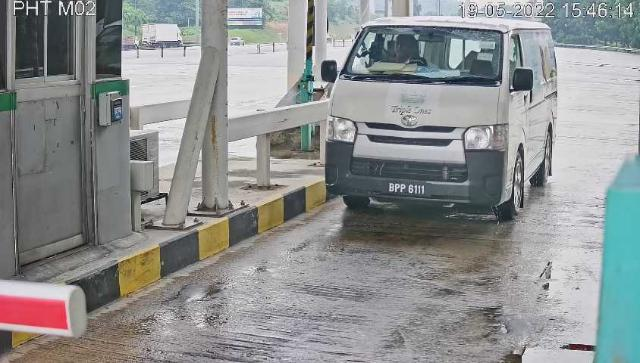License_Plate: (387, 181, 434, 201)
van: (327, 17, 559, 221)
